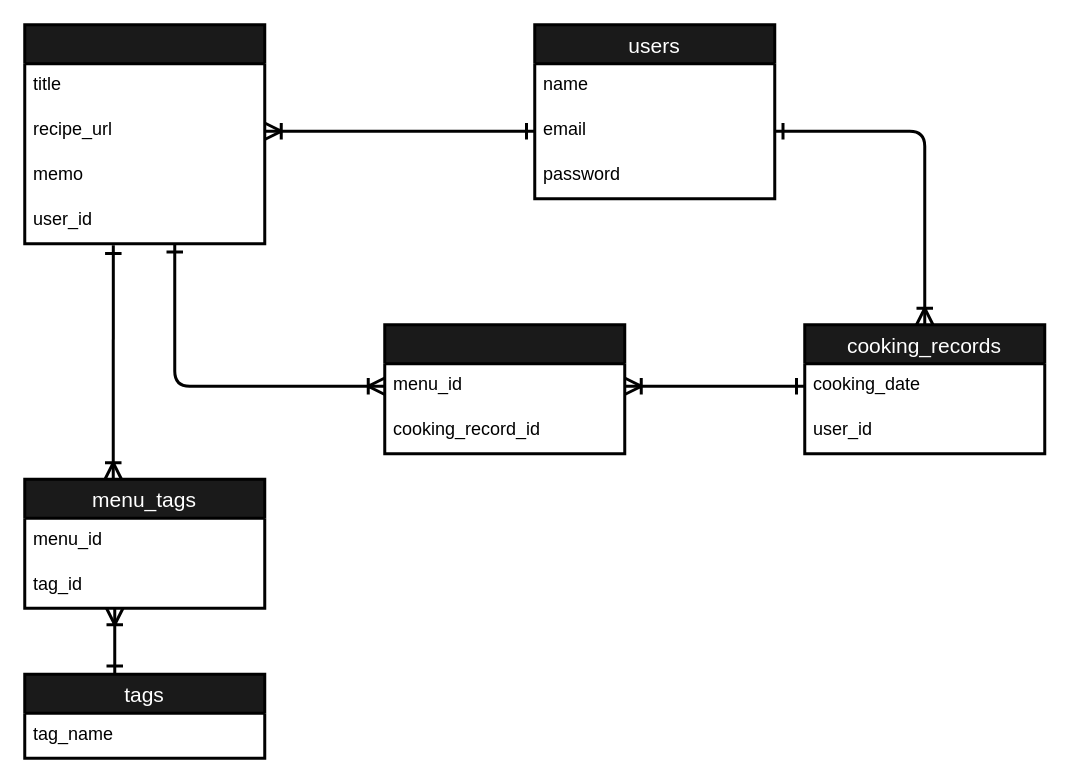
Image size: 1070x783. Some labels were removed from this diagram. The shapes that lost their labels are listed below. From the top down, each one's box as (x1, y1, x2, y2) in pixels, then its label:
(22, 22, 266, 244): menues
(382, 322, 626, 454): menu_records
